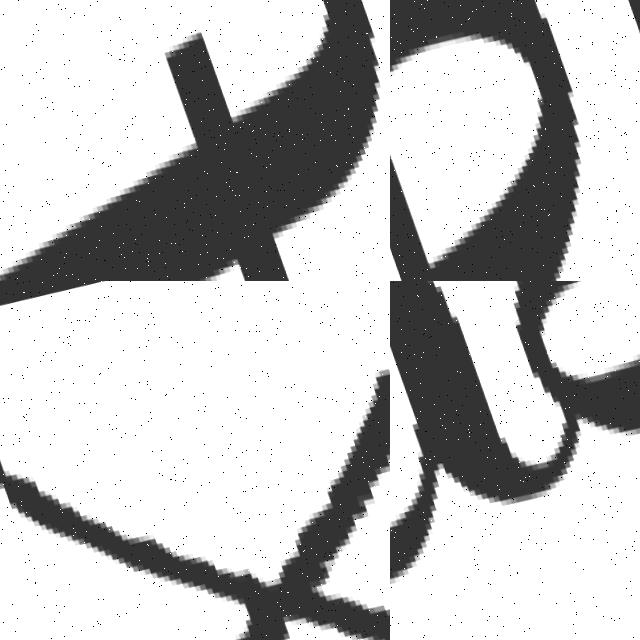E: (390, 0, 573, 281)
F: (0, 0, 390, 281)
G: (390, 281, 640, 632)
X: (0, 281, 390, 640)
